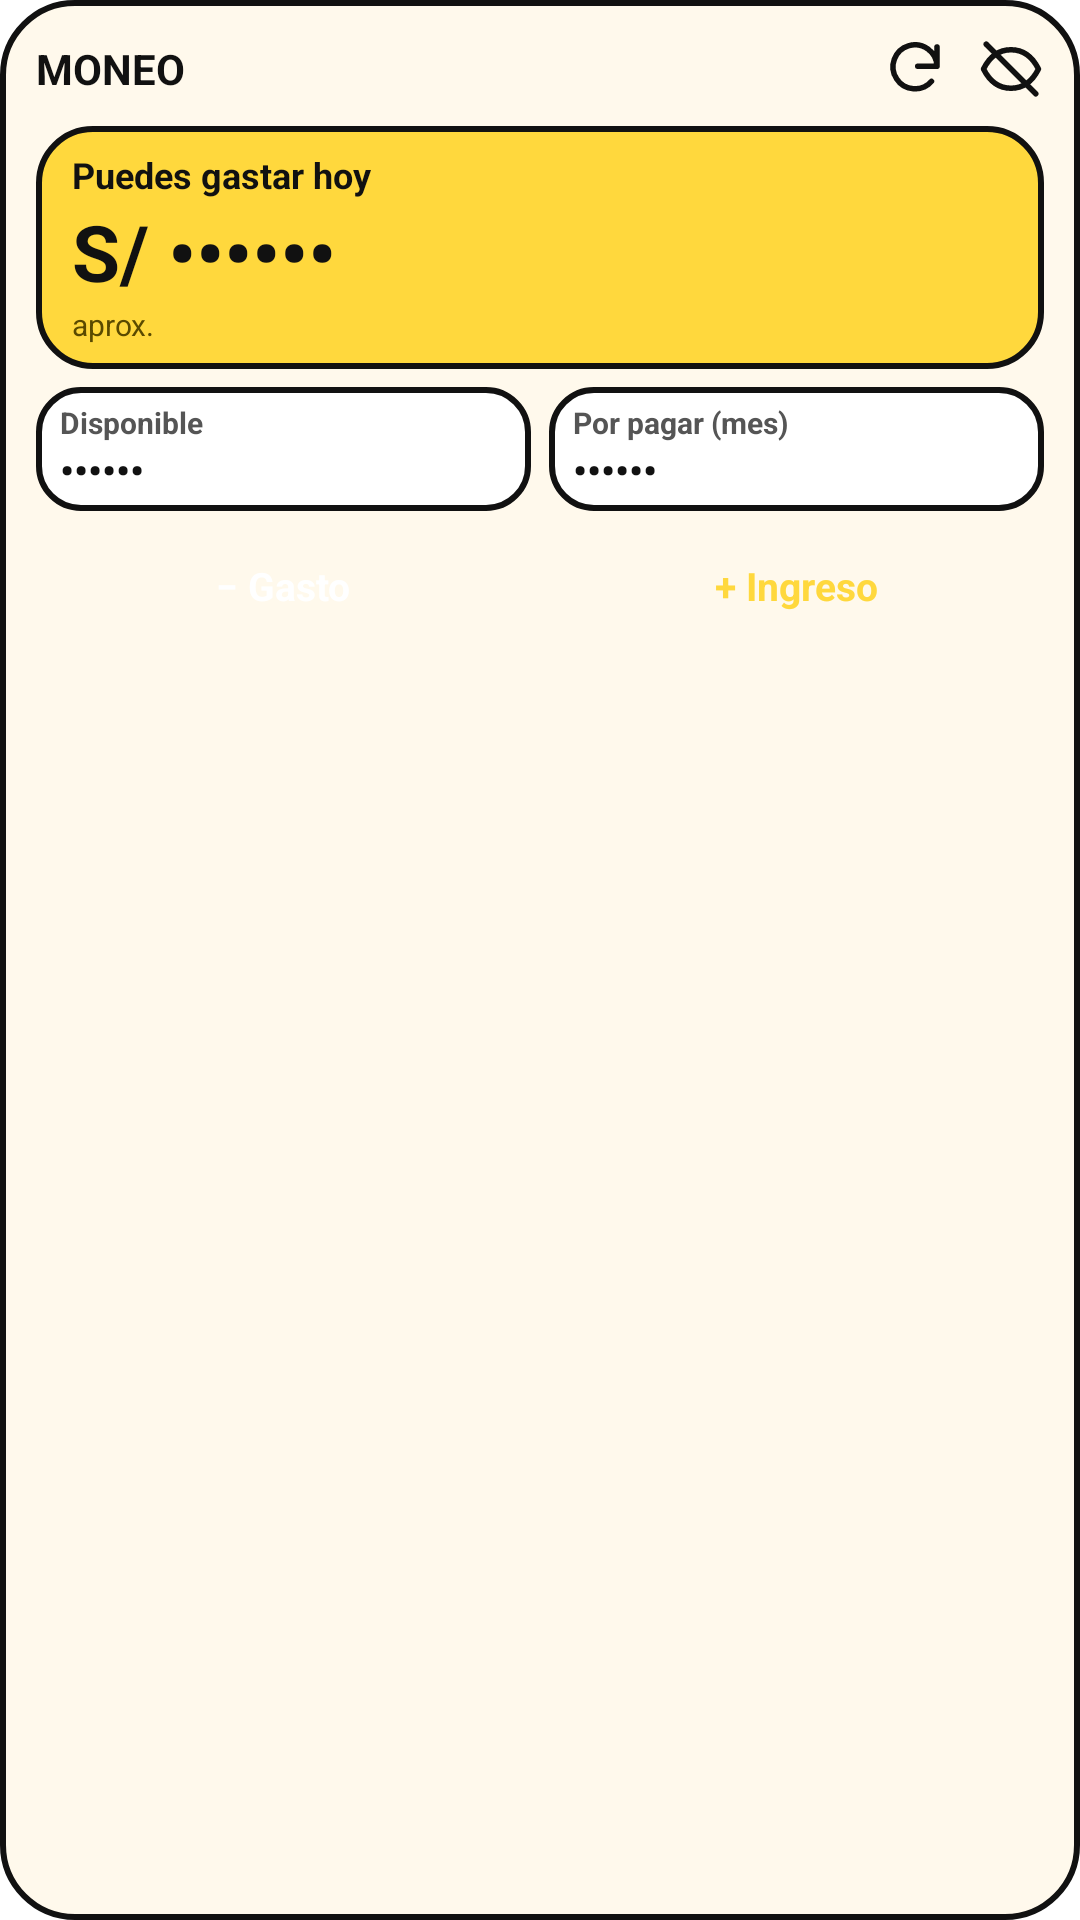

Icons on this 1080 × 1920 Android screen, each with its box as (x1, y1, x2, y2):
Actualizar: (890, 42, 940, 92)
Mostrar u ocultar montos: (980, 41, 1042, 97)
